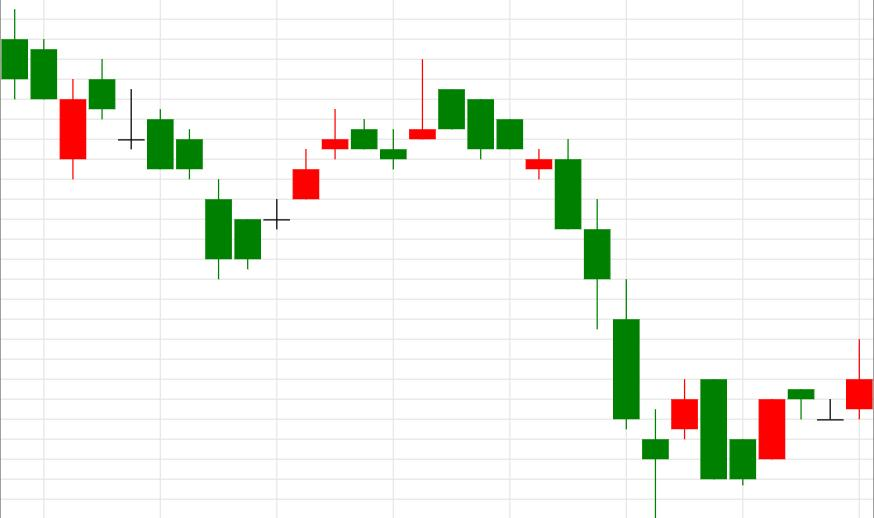morning_star_rise: (438, 89, 699, 517)
